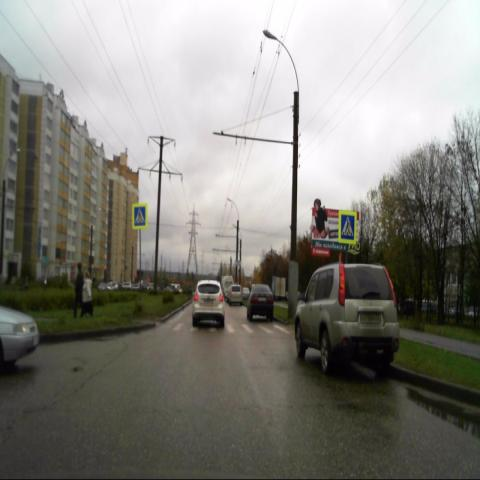5_19_1: (338, 209, 356, 246), (131, 202, 148, 229)
